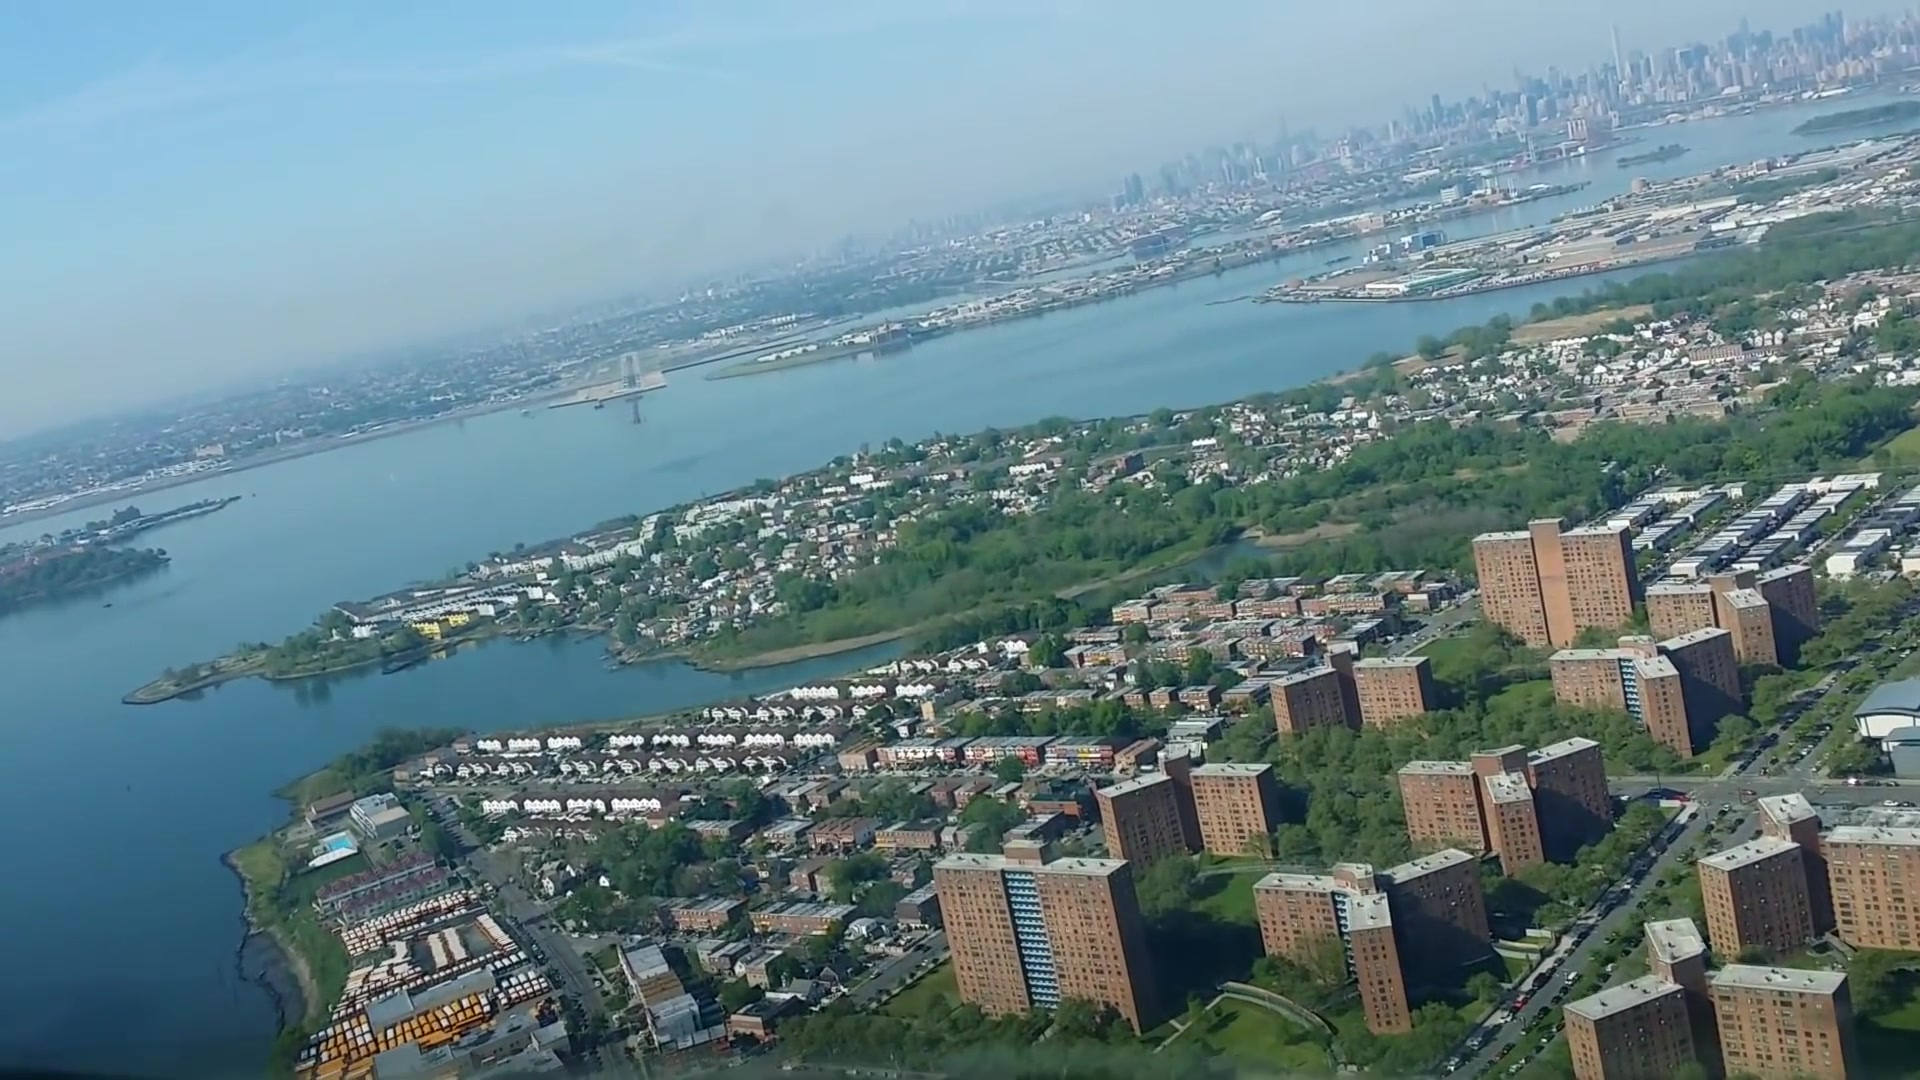runway: (616, 349, 644, 393)
